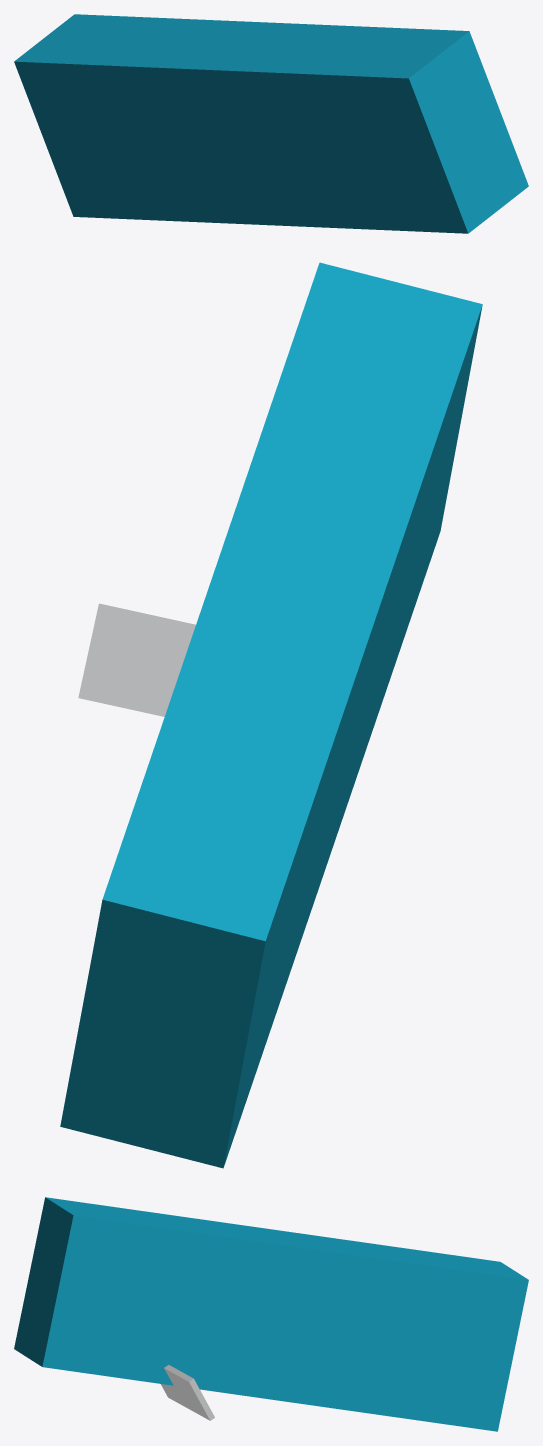
File: commuter-bus-wreck.glb
3 views of the same model, one above another, from view 1: azimuth 30°, elevation 25°; view 2: azimuth 150°, elevation 25°; view 3: azimuth 270°, elevation 25° (orthographic). The views are drawn at different scales.
Visible parts, largest first — view 1: Root; view 2: Root; view 3: Root.
Part boxes in pixels (x1=…): Root: x1=14, y1=14, x2=528, y2=233; Root: x1=60, y1=262, x2=482, y2=1168; Root: x1=14, y1=1197, x2=528, y2=1431.
Bounding box in the file's own units: 4.57 × 4.97 × 8.54.
